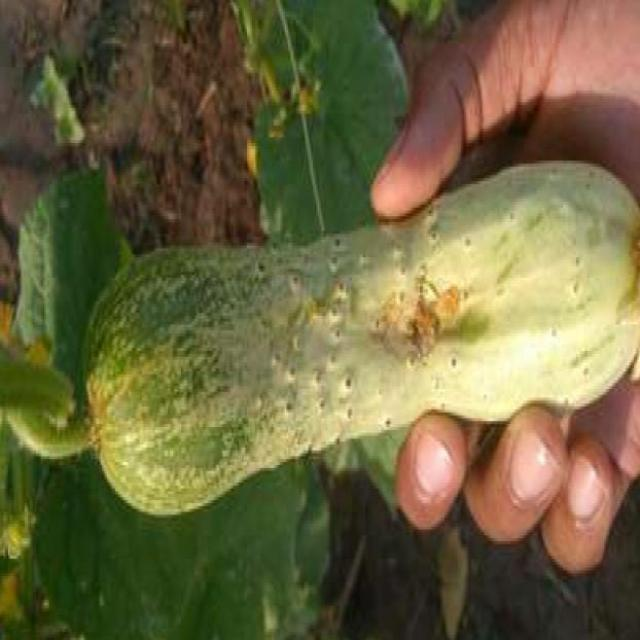Fruit fly: (355, 256, 495, 370), (288, 268, 350, 336)
